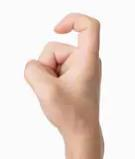anticlockwise: (20, 11, 105, 130)
